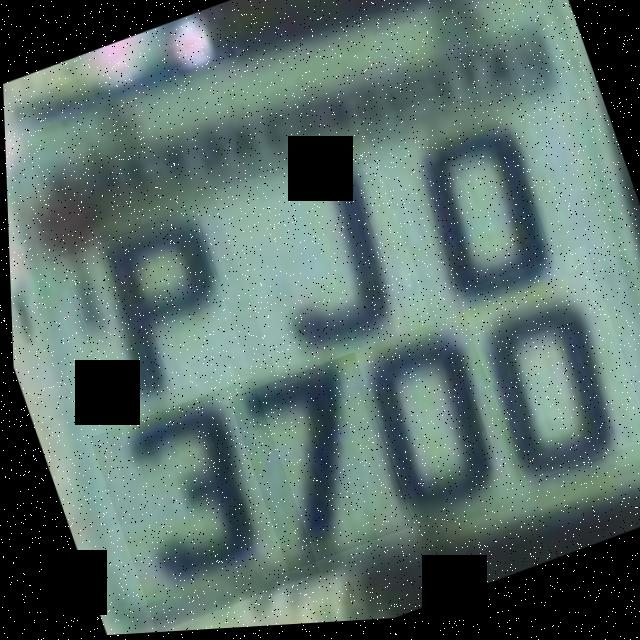0: (337, 294, 536, 535), (453, 249, 640, 493)
3: (84, 378, 317, 636)
7: (224, 353, 411, 578)
J: (210, 137, 432, 386)
O: (365, 70, 585, 322)
P: (57, 209, 255, 446)
